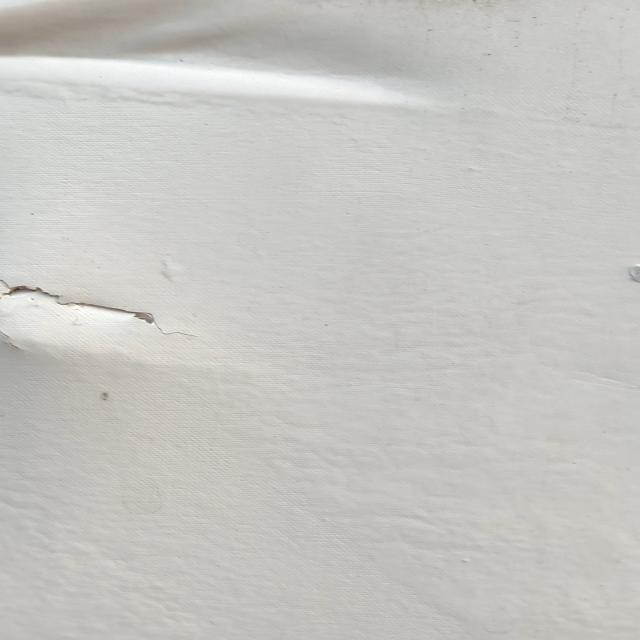Dents or Deformation: (1, 1, 443, 114)
Scratches: (1, 279, 193, 342)
